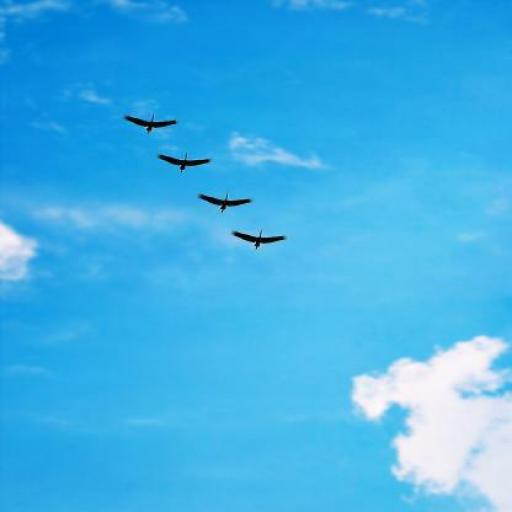bird: (156, 150, 214, 174), (123, 112, 180, 135), (198, 191, 254, 214), (231, 229, 287, 250)
